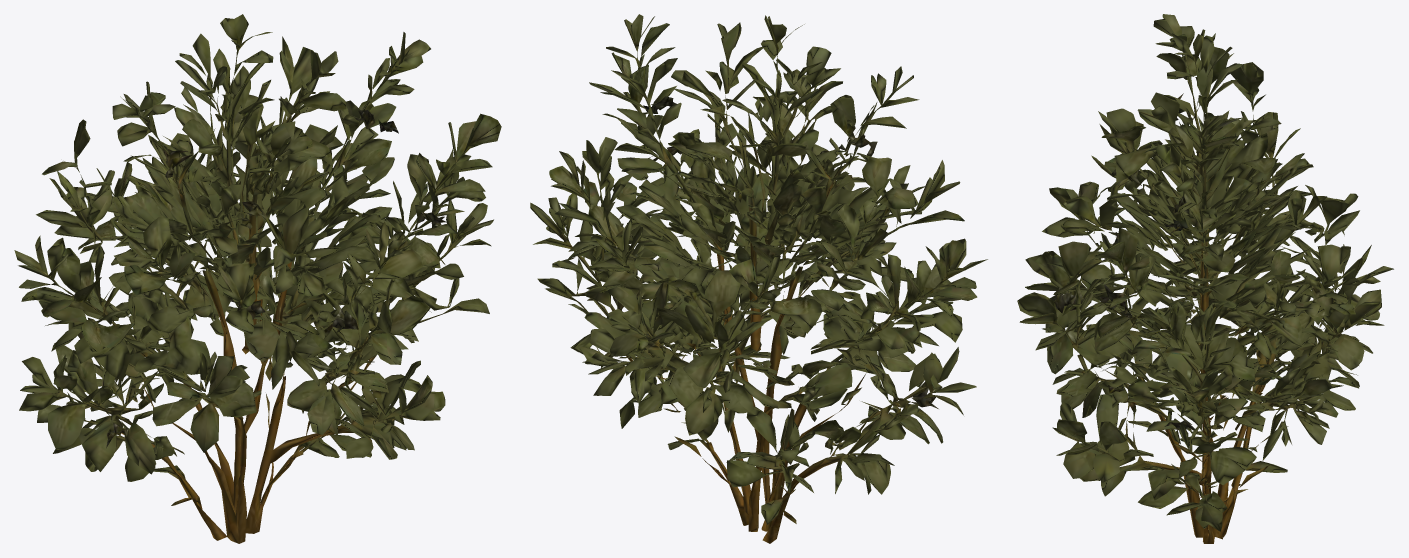
The model's file is BorderPrivet.glb.
3 renders of one model, left to right at view 1: azimuth 30°, elevation 25°; view 2: azimuth 150°, elevation 25°; view 3: azimuth 270°, elevation 25°, orthographic. The views are drawn at different scales.
Parts seen in each view (by area): view 1: Mesh_0; view 2: Mesh_0; view 3: Mesh_0.
Boxes of the visible parts, x1=… form: Mesh_0: x1=14, y1=14, x2=501, y2=543; Mesh_0: x1=530, y1=14, x2=987, y2=543; Mesh_0: x1=1017, y1=14, x2=1393, y2=543.
Size of the model in its own units: 0.9304 by 1 by 0.6749.
1 material, 1 textured.
